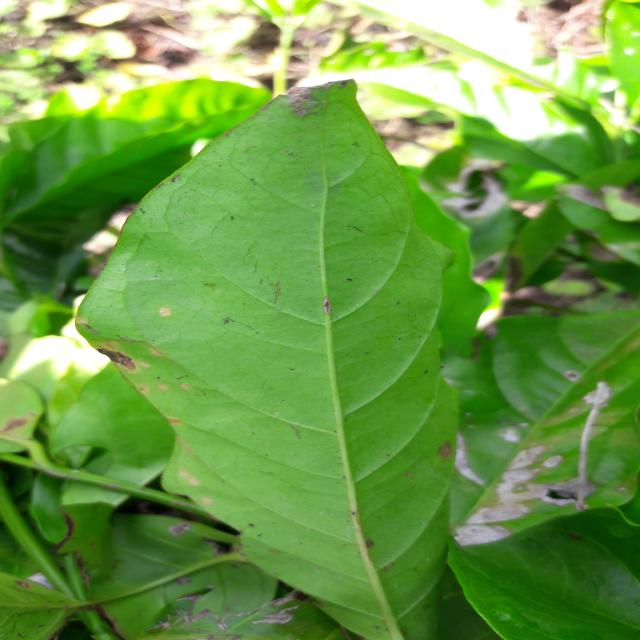Enfermedad-Roya: (74, 83, 460, 640)
